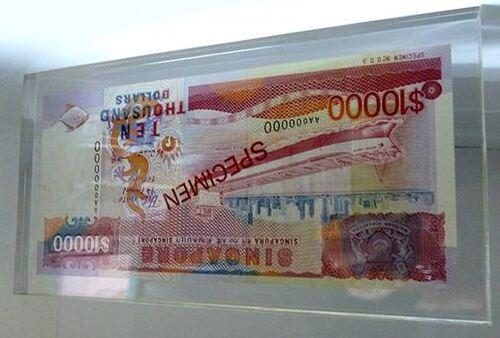10000SingaporeDollar: (40, 68, 450, 272)
